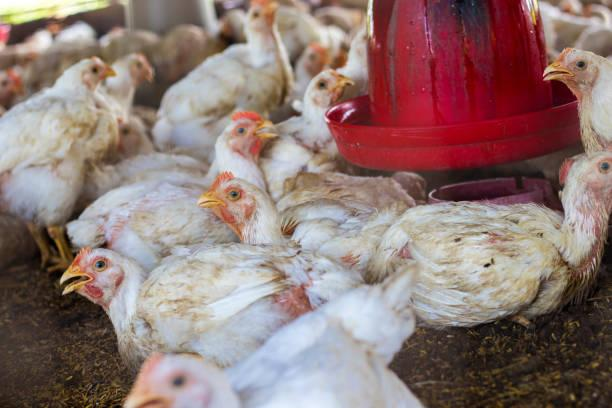AbNormal: (0, 50, 131, 256)
